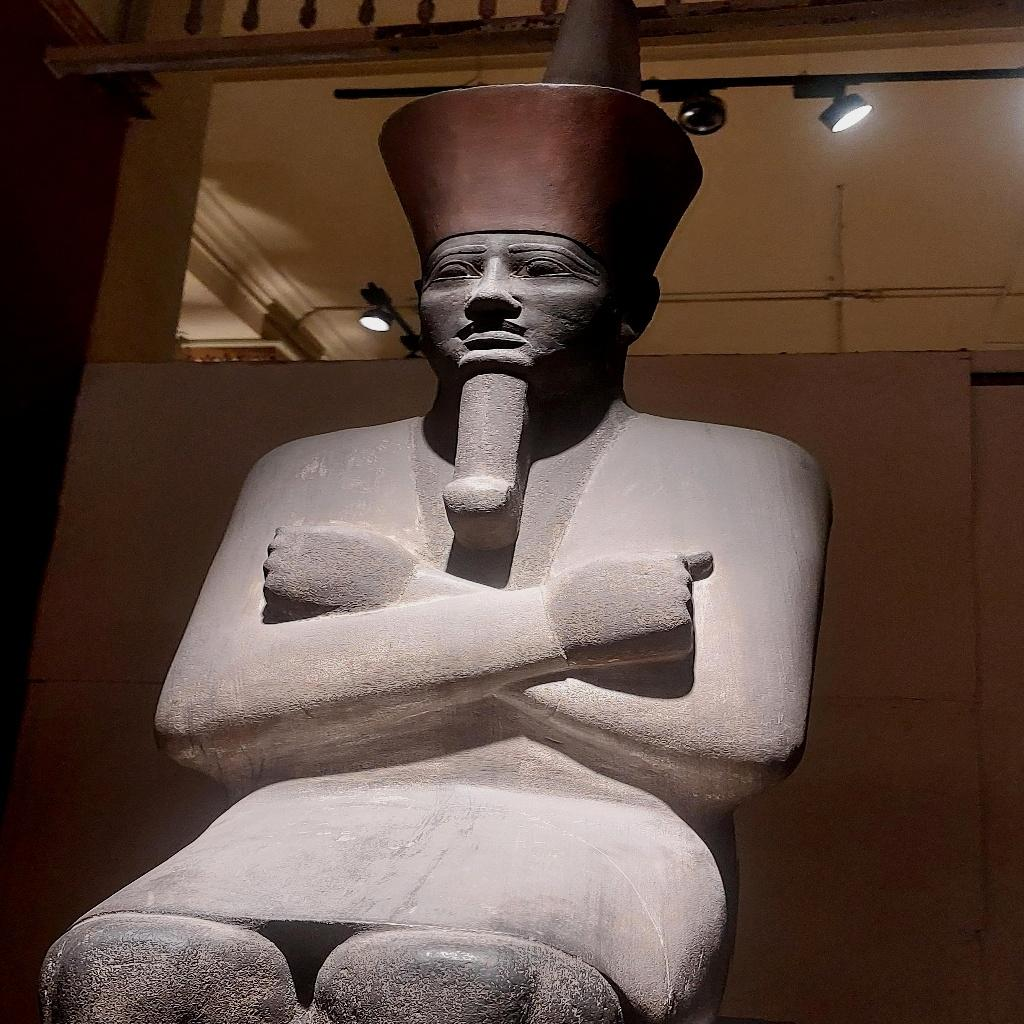Mentuhotep Nebhetpre: (36, 8, 838, 1020)
